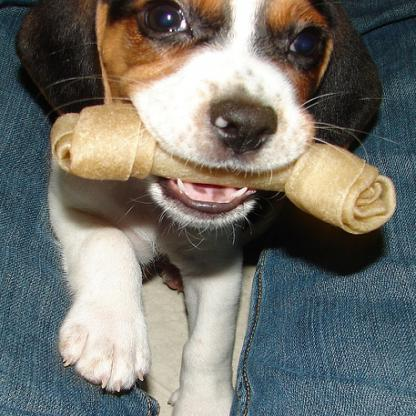dog: (14, 0, 396, 415)
